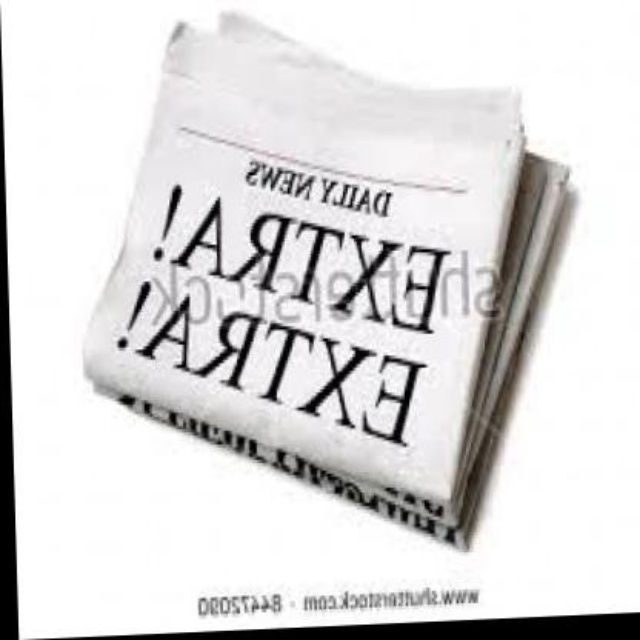trash: (85, 14, 566, 545)
